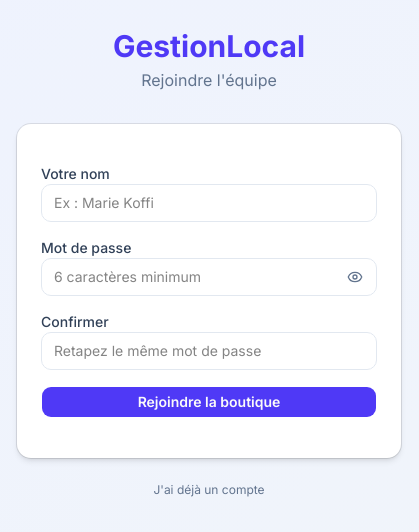
Test: /invitation/[token] › exige deux mots de passe identiques
Type "Marie" into the field labelled "Votre nom" at (209, 203), box [41, 184, 377, 222]
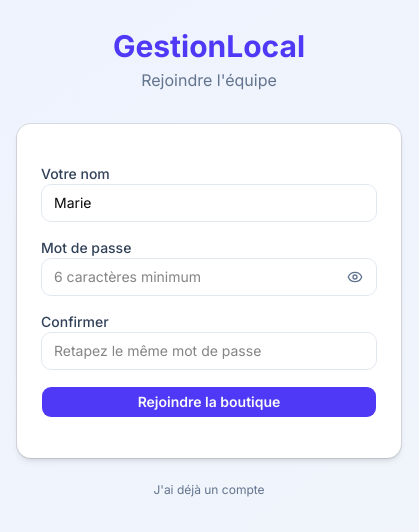
Type "secret1" into the password field labelled "Mot de passe" at (209, 277), box [41, 258, 377, 296]
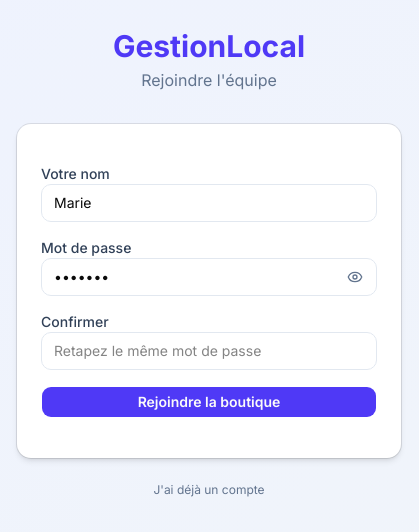
Type "secret2" into the password field labelled "Confirmer" at (209, 351), box [41, 332, 377, 370]
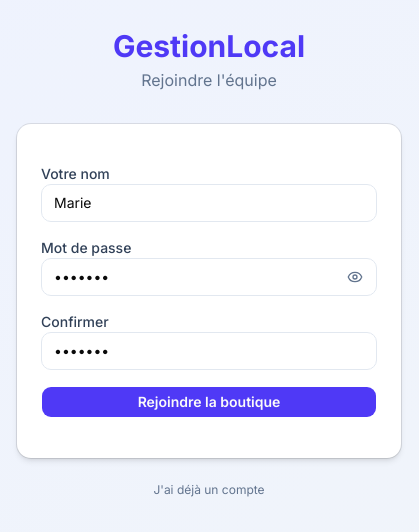
Click the button "Rejoindre la boutique" at (209, 402), box [41, 386, 377, 418]
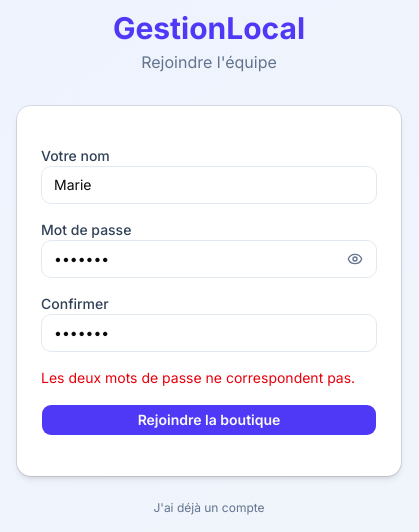
Expected: the text "Les deux mots de passe ne correspondent pas." is shown, [41, 368, 377, 388]
